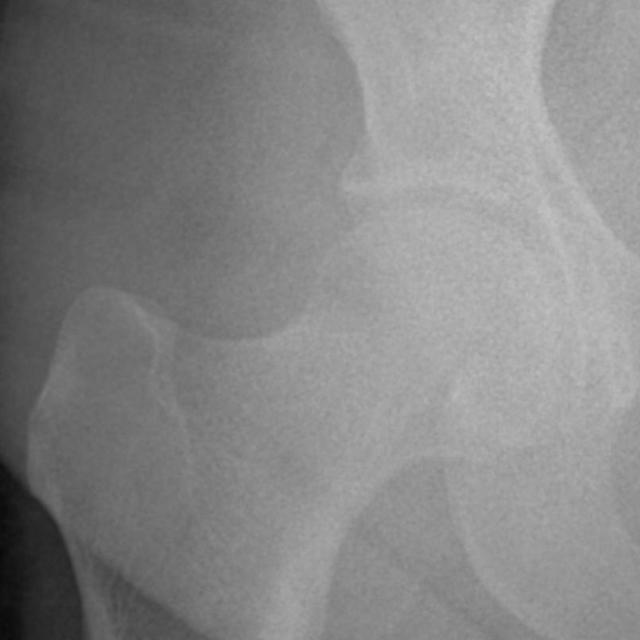Fitted_femural_head: (262, 206, 432, 262)
